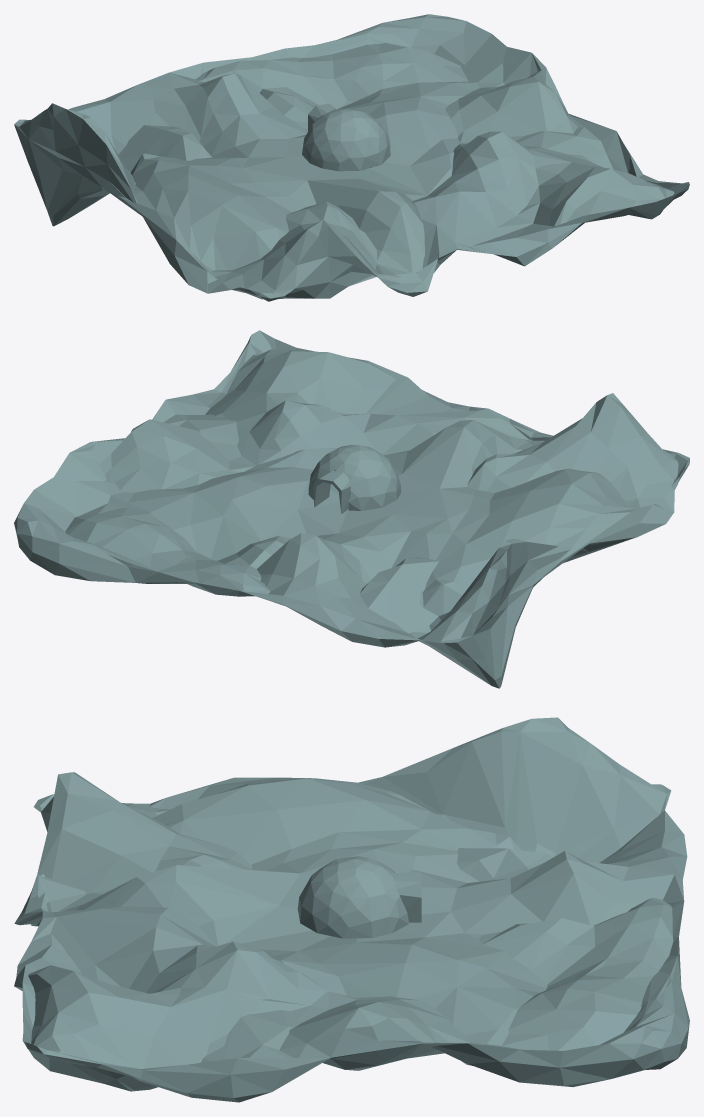
File: iglu.fbx
3 renders of one model, top to bottom at view 1: azimuth 30°, elevation 25°; view 2: azimuth 150°, elevation 25°; view 3: azimuth 270°, elevation 25°, orthographic. The views are drawn at different scales.
Visible parts, largest first — view 1: Glaciar; view 2: Glaciar; view 3: Glaciar.
Part boxes in pixels (x1,y1,x2,y2): Glaciar: (14, 14, 689, 301); Glaciar: (14, 330, 689, 688); Glaciar: (14, 717, 689, 1102).
Bounding box in the file's own units: 4762 × 1232 × 4664.
1 material, 1 textured.
